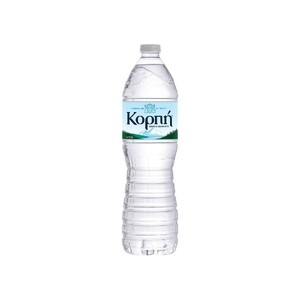PlasticBottle: (120, 43, 182, 258)
